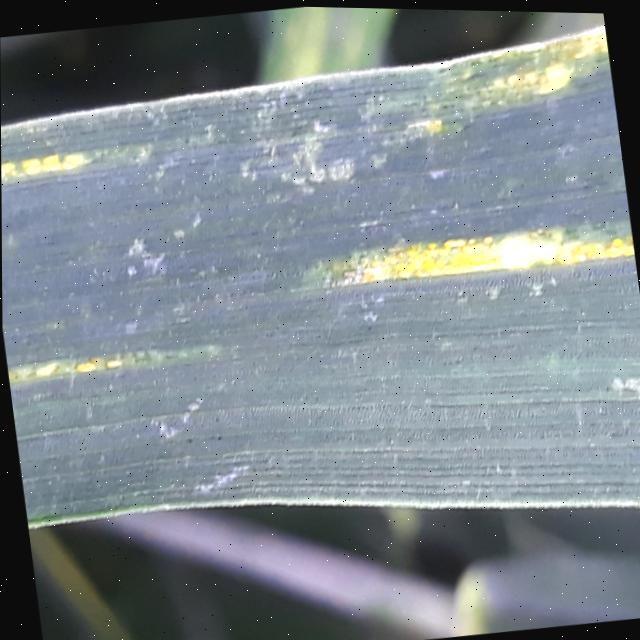yellow_rust: (0, 0, 640, 560)
